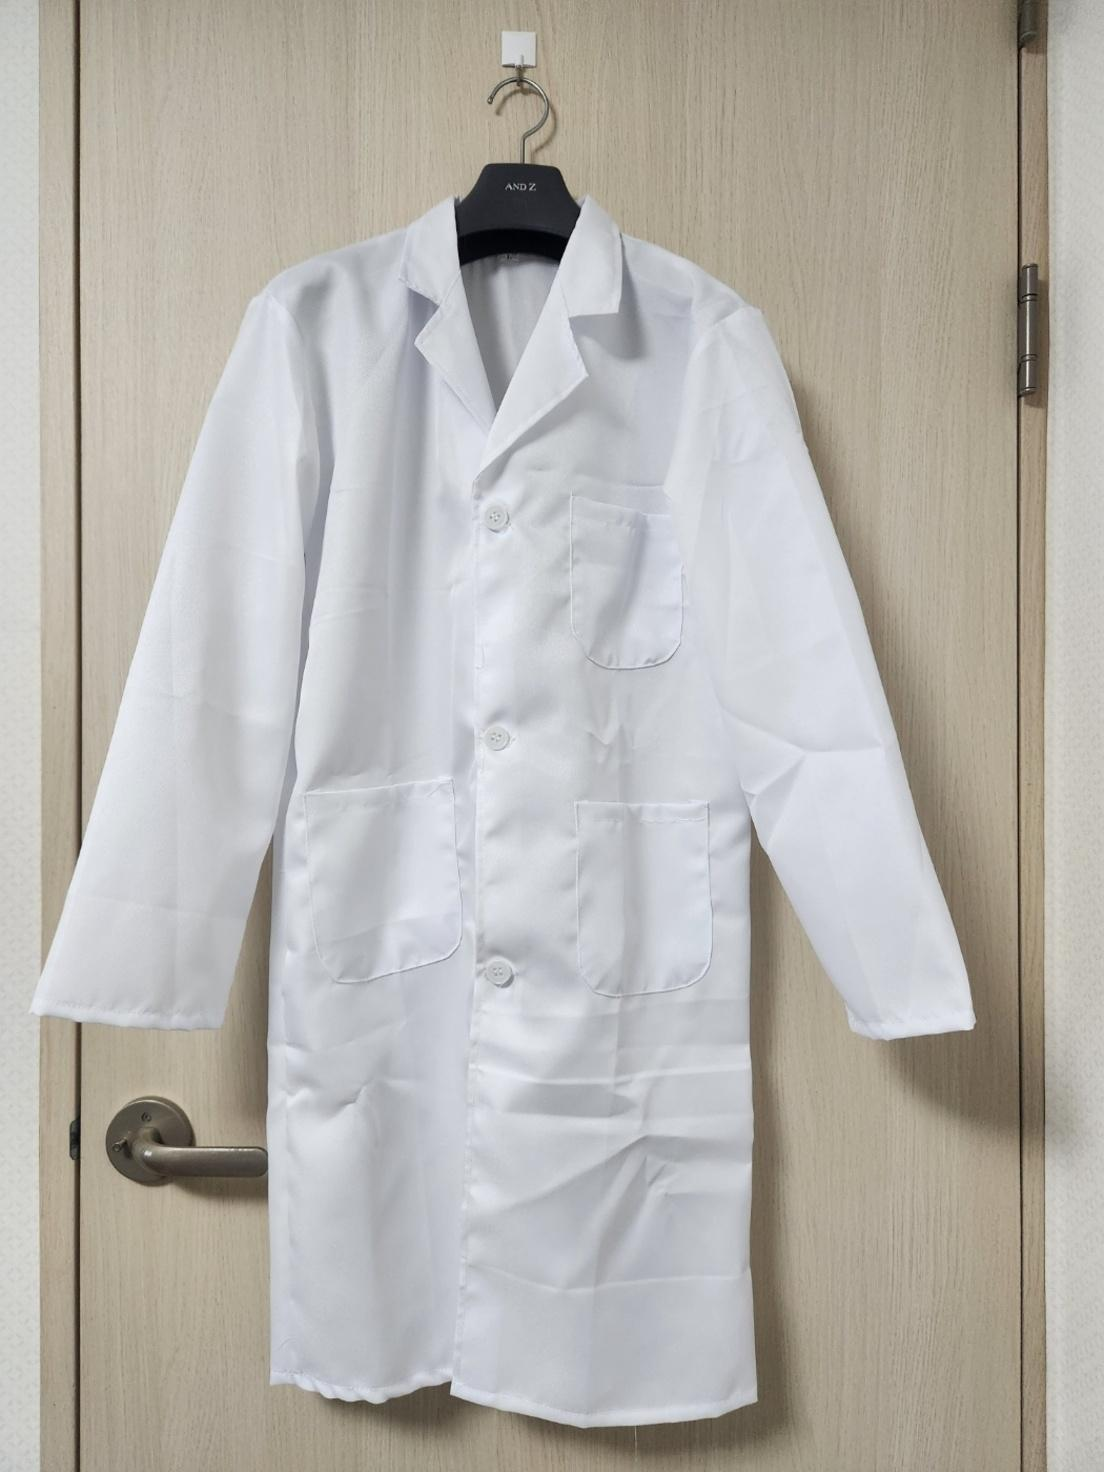lab_coat: (37, 192, 976, 1430)
